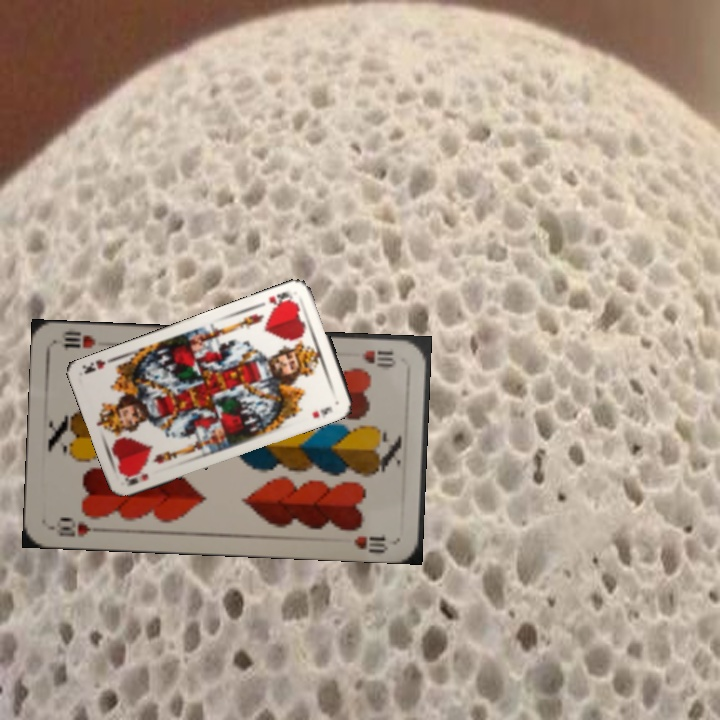H10: (54, 513, 94, 539), (358, 346, 398, 369)
HK: (264, 287, 297, 311), (121, 469, 151, 488)
